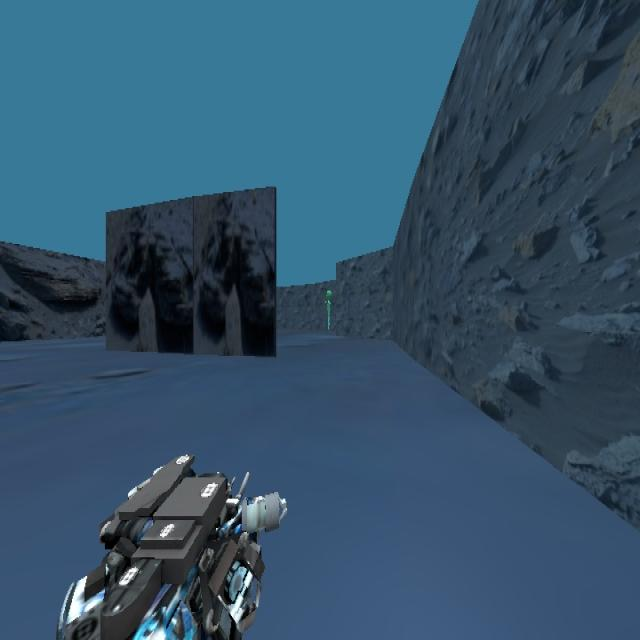Alien: (324, 288, 332, 331)
